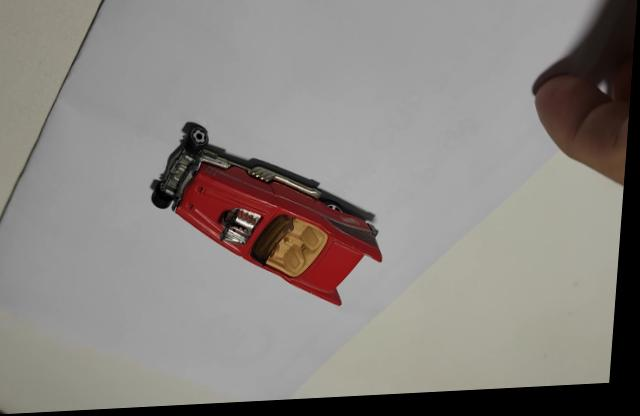03_V8: (152, 123, 387, 308)
